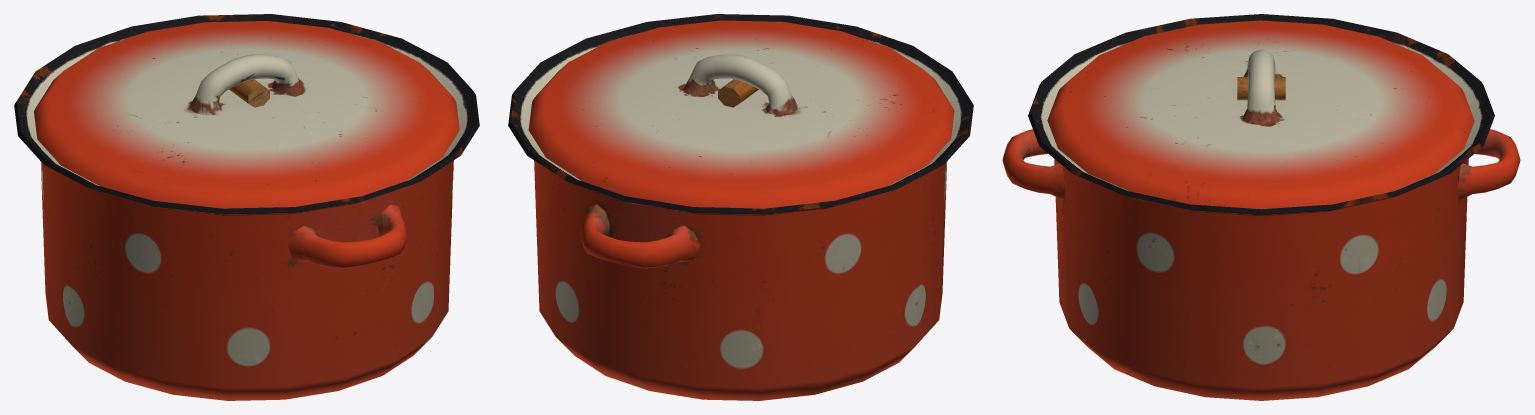
File: obj_dotted_pan_4af5b7.glb
3 views of the same model, side by side, from view 1: azimuth 30°, elevation 25°; view 2: azimuth 150°, elevation 25°; view 3: azimuth 270°, elevation 25° (orthographic).
Visible parts, largest first — view 1: obj_dotted_pan_4af5b7; view 2: obj_dotted_pan_4af5b7; view 3: obj_dotted_pan_4af5b7.
Boxes of the visible parts, bbox=[...] form: obj_dotted_pan_4af5b7: bbox=[14, 14, 479, 400]; obj_dotted_pan_4af5b7: bbox=[508, 14, 973, 400]; obj_dotted_pan_4af5b7: bbox=[1002, 14, 1520, 400].
Bounding box in the file's own units: 0.2705 × 0.1704 × 0.3.
1 material, 1 textured.
